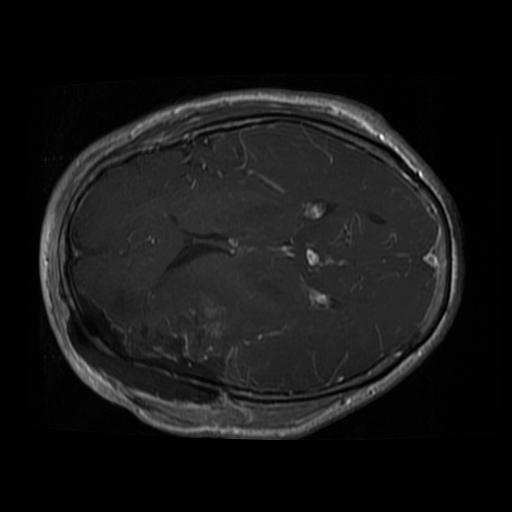glioma: (65, 282, 237, 406)
